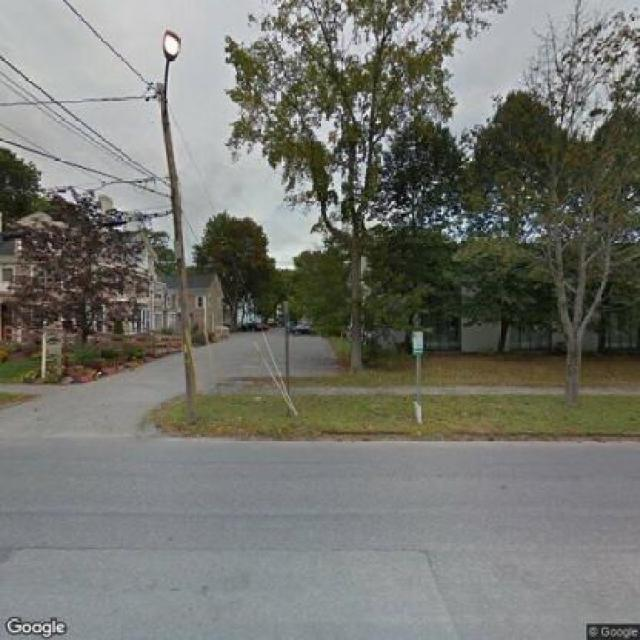pole: (131, 78, 203, 408)
